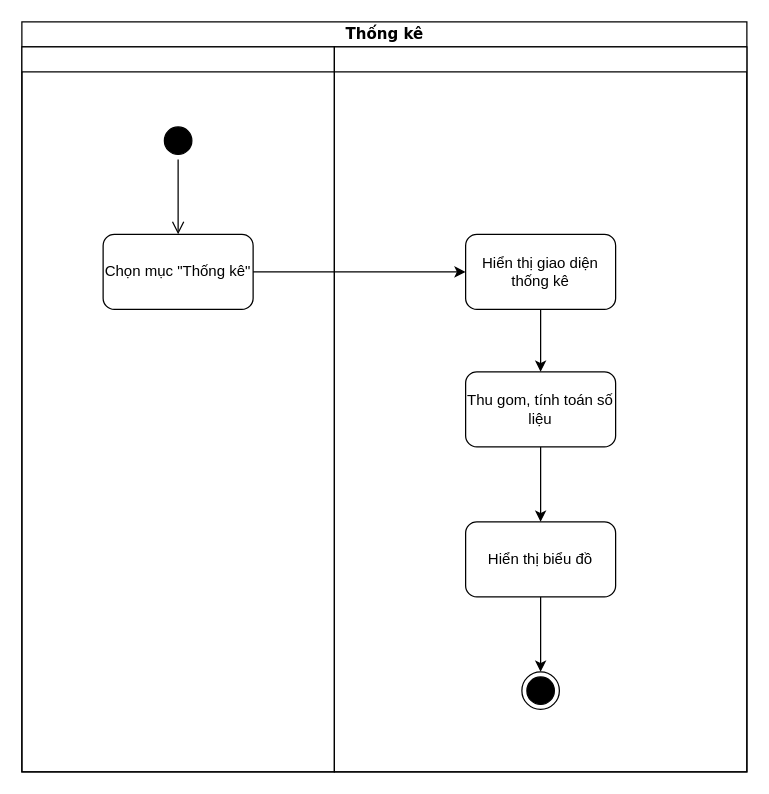
This 769x794 diagram has some shape labels left out. Each missing label, with the box of its shape:
Hệ thống: (333, 46, 747, 772)
User: (21, 46, 334, 772)
